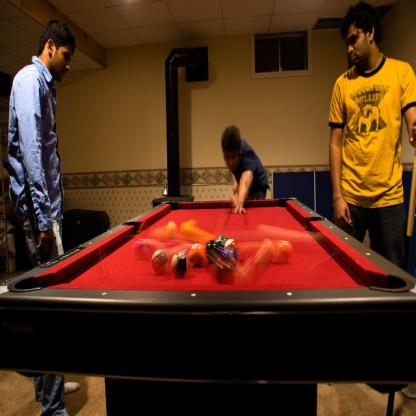Ball: (152, 221, 295, 278)
